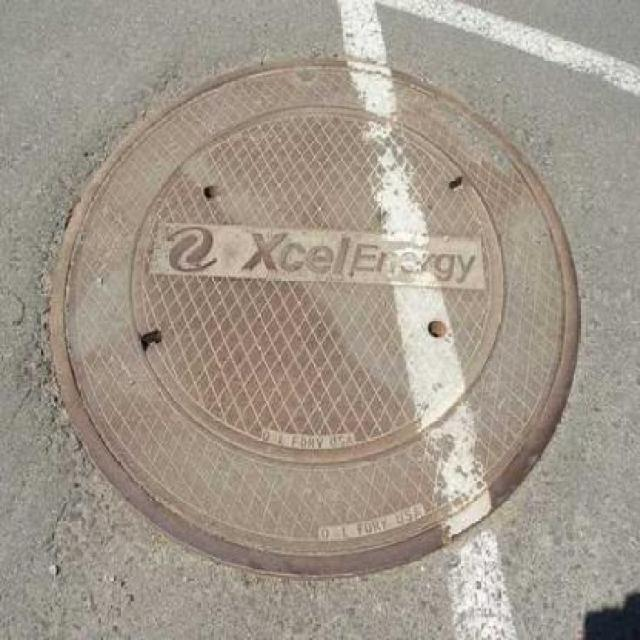Manhole: (44, 55, 582, 578)
